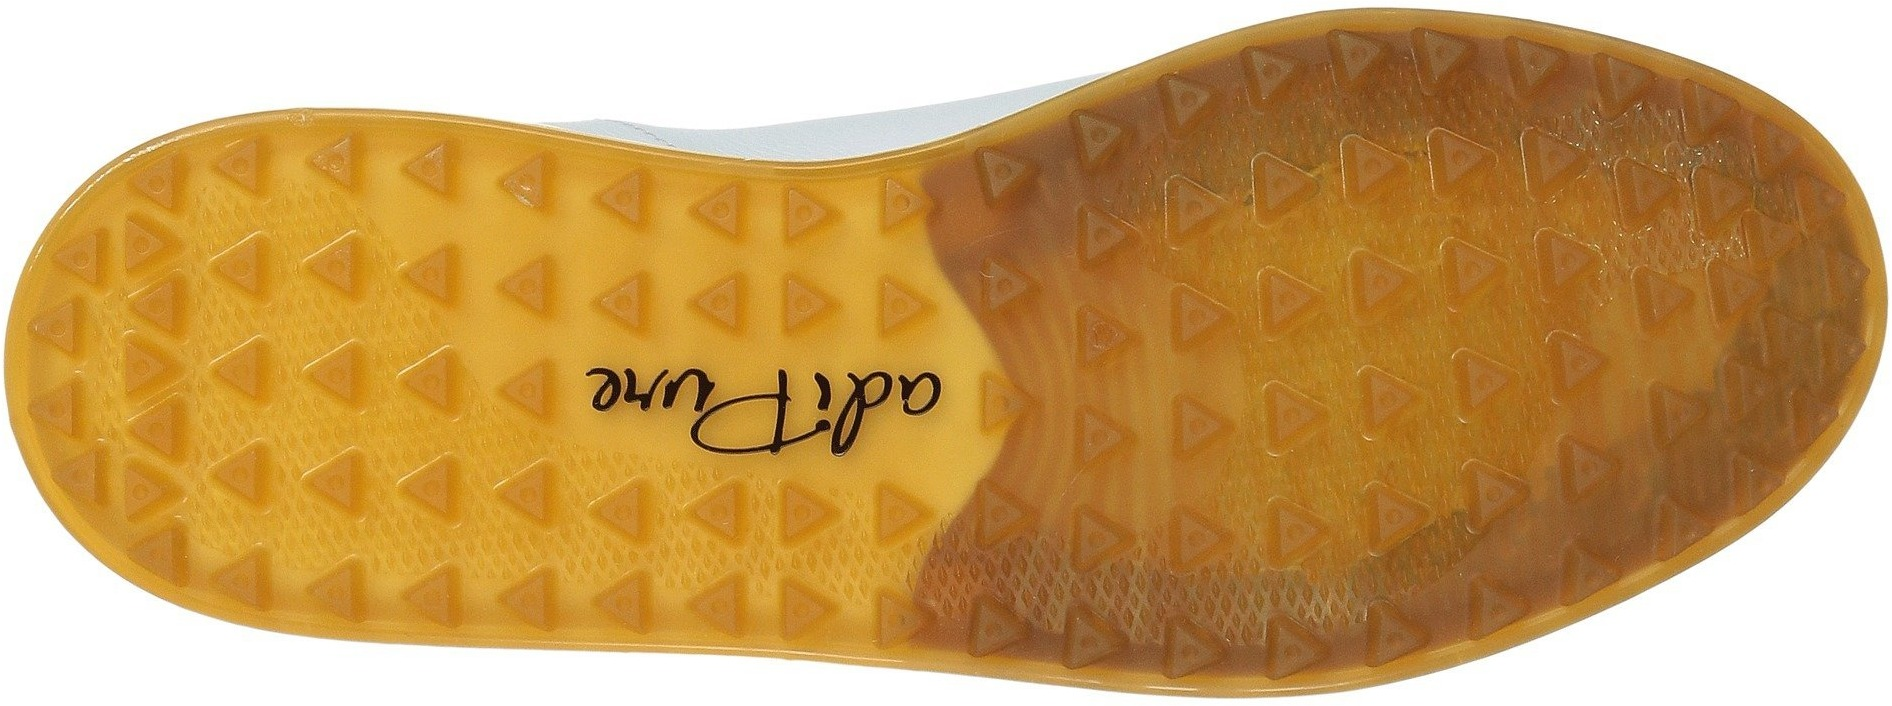circle: (218, 138, 466, 389), (309, 425, 542, 632), (1203, 58, 1431, 266), (965, 468, 1192, 673), (1205, 281, 1426, 484), (975, 152, 1192, 348), (1653, 168, 1850, 367), (1442, 49, 1647, 240), (93, 392, 294, 574), (1443, 333, 1642, 509), (1213, 496, 1405, 677), (592, 175, 757, 327), (598, 477, 744, 632), (56, 216, 205, 352)
text: (583, 336, 708, 459), (719, 338, 835, 466), (841, 346, 951, 457)
triangle: (218, 138, 466, 389), (309, 425, 542, 632), (1203, 58, 1431, 266), (965, 468, 1192, 673), (1205, 281, 1426, 484), (975, 152, 1192, 348), (1653, 168, 1850, 367), (1442, 49, 1647, 240), (93, 392, 294, 574), (1443, 333, 1642, 509), (1213, 496, 1405, 677), (787, 474, 950, 647), (592, 175, 757, 327), (598, 477, 744, 632), (56, 216, 205, 352)
